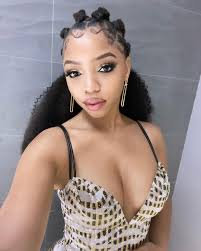person: (60, 7, 133, 120)
